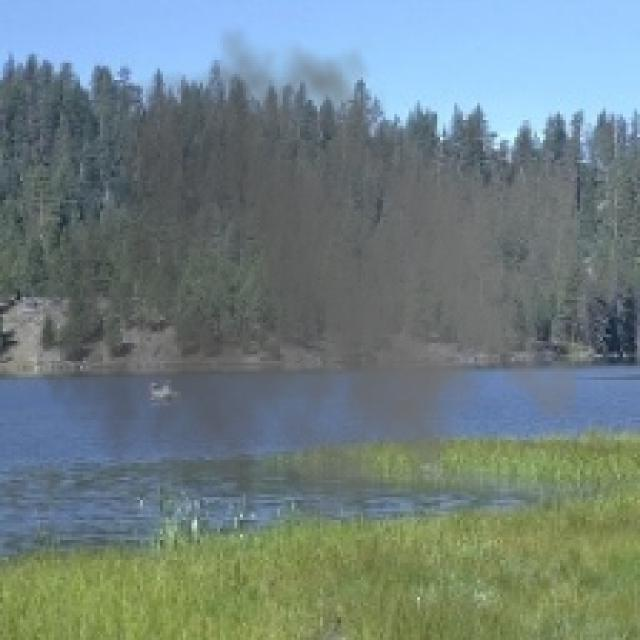Smoke: (34, 22, 577, 572)
